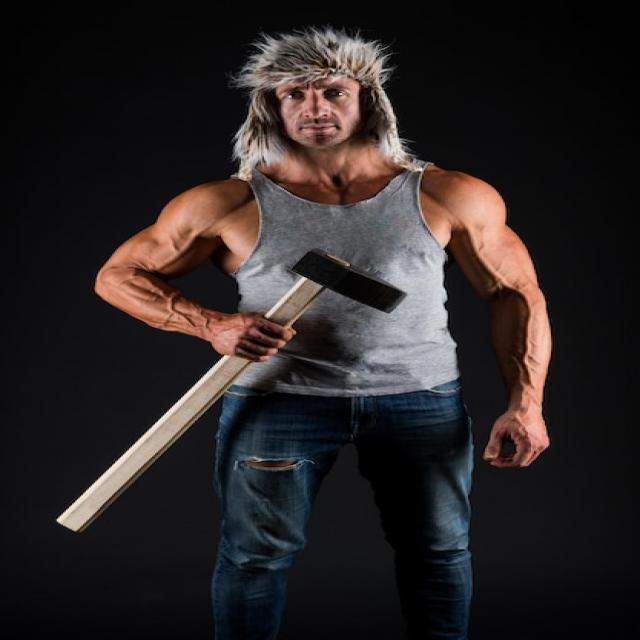hammer: (43, 243, 413, 546)
